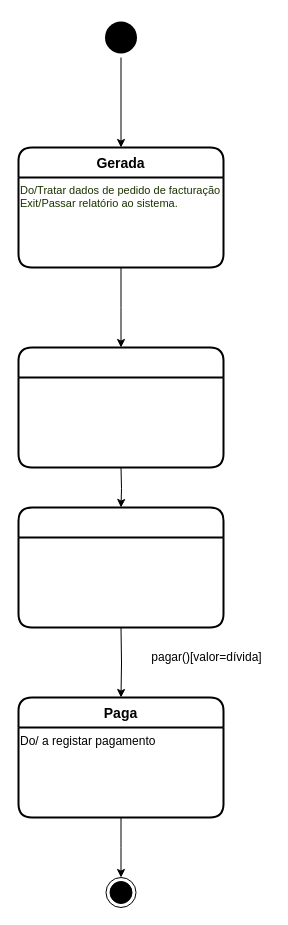
Image size: 288x925. Some labels were removed from this diagram. The shapes that lost their labels are listed below. From the top down, each one's centre as x and y in pixels, then its label:
At (x=120, y=407): "Emitida".
At (x=120, y=567): "Por Liquidar".
